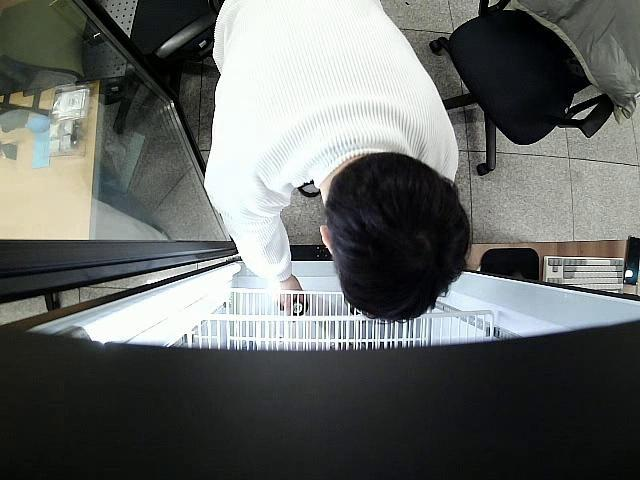19_17cha: (290, 296, 306, 316)
